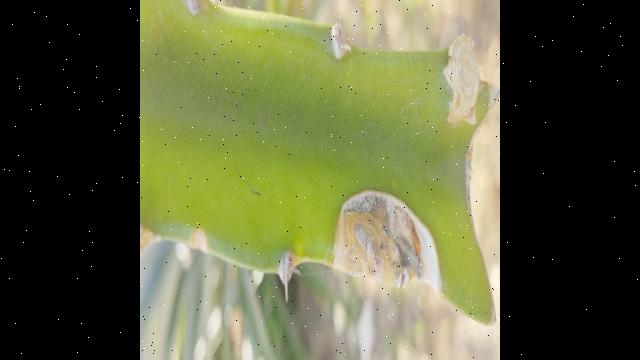stemcanker: (438, 35, 492, 125)
